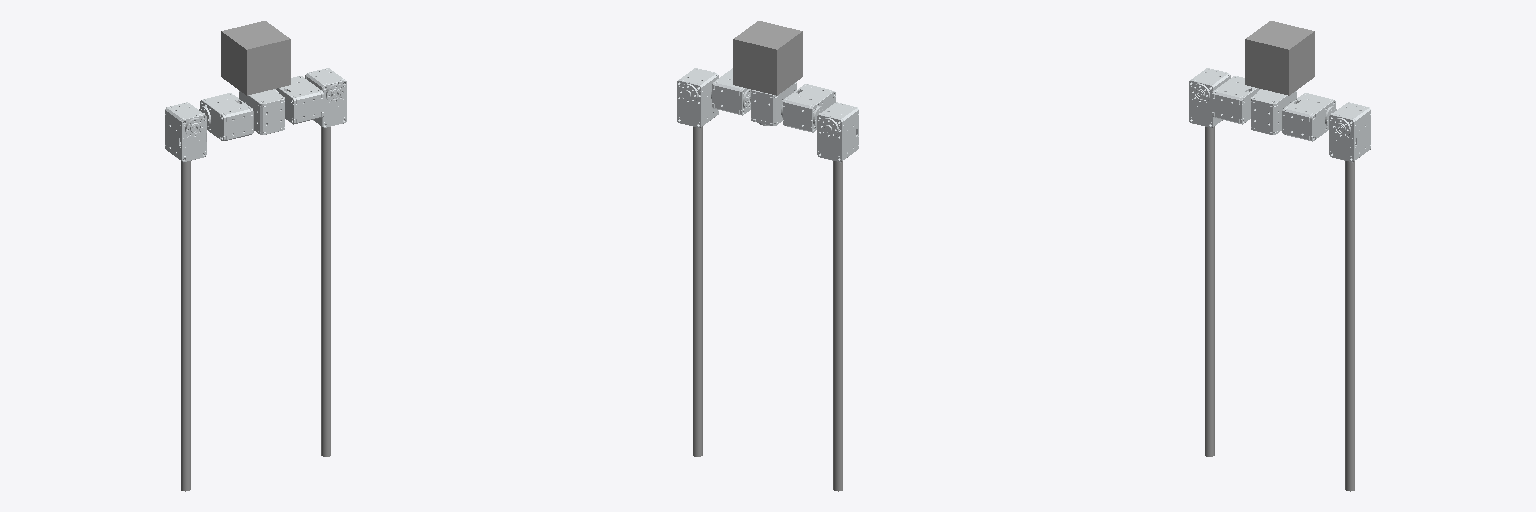
URDF robot description (chopstick_bot):
<?xml version='1.0' encoding='utf-8'?>
<robot name="chopstick_bot">
  <link name="world" />
  <joint name="world_to_base" type="fixed">
    <origin xyz="0.000000 0.000000 0.470000" rpy="0.000000 0.000000 0.000000" />
    <parent link="world" />
    <child link="base_motor_link" />
    </joint>
  <link name="base_motor_link">
    <visual>
      <origin xyz="0.000000 0.000000 0.000000" rpy="0.000000 0.000000 0.000000" />
      <geometry>
        <mesh filename="meshes/XL-430_new_coordinate_on_axis.STL" scale="0.001000 0.001000 0.001000" />
        </geometry>
      <material name="motor_mat">
        <color rgba="0.89804 0.91765 0.92941 1.0" />
        </material>
      </visual>
    <collision>
      <origin xyz="0.000000 -0.012000 0.000000" rpy="0.000000 0.000000 0.000000" />
      <geometry>
        <box size="0.028500 0.046500 0.034000" />
        </geometry>
      </collision>
    <inertial>
      <origin xyz="0.000000 -0.012000 0.000000" rpy="0.000000 0.000000 0.000000" />
      <mass value="0.065000" />
      <inertia ixx="0.000017973854" ixy="0" ixz="0" iyy="0.000010661354" iyz="0" izz="0.000016111875" />
      </inertial>
    </link>
  <link name="l_hip_pitch">
    <visual>
      <origin xyz="0.000000 0.000000 0.000000" rpy="0.000000 0.000000 0.000000" />
      <geometry>
        <mesh filename="meshes/XL-430_new_coordinate_on_axis.STL" scale="0.001000 0.001000 0.001000" />
        </geometry>
      <material name="motor_mat">
        <color rgba="0.89804 0.91765 0.92941 1.0" />
        </material>
      </visual>
    <collision>
      <origin xyz="0.000000 -0.012000 0.000000" rpy="0.000000 0.000000 0.000000" />
      <geometry>
        <box size="0.028500 0.046500 0.034000" />
        </geometry>
      </collision>
    <inertial>
      <origin xyz="0.000000 -0.012000 0.000000" rpy="0.000000 0.000000 0.000000" />
      <mass value="0.065000" />
      <inertia ixx="0.000017973854" ixy="0" ixz="0" iyy="0.000010661354" iyz="0" izz="0.000016111875" />
      </inertial>
    </link>
  <link name="l_hip_pitch_out">
    <inertial>
      <origin xyz="0.000000 0.000000 0.000000" rpy="0.000000 0.000000 0.000000" />
      <mass value="0.001000" />
      <inertia ixx="0.000000016667" ixy="0" ixz="0" iyy="0.000000016667" iyz="0" izz="0.000000016667" />
      </inertial>
    </link>
  <joint name="l_hip_pitch_mount_fixed" type="fixed">
    <origin xyz="-0.040000 0.000000 0.000000" rpy="0.000000 -1.570796 0.000000" />
    <parent link="base_motor_link" />
    <child link="l_hip_pitch" />
    </joint>
  <joint name="l_hip_pitch_joint" type="revolute">
    <origin xyz="0.000000 0.000000 0.000000" rpy="0.000000 0.000000 0.000000" />
    <parent link="l_hip_pitch" />
    <child link="l_hip_pitch_out" />
    <axis xyz="0.000000 0.000000 1.000000" />
    <limit lower="-3.14159" upper="3.14159" effort="5.0" velocity="8.0" />
    </joint>
  <link name="l_hip_roll">
    <visual>
      <origin xyz="0.000000 0.000000 0.000000" rpy="0.000000 0.000000 0.000000" />
      <geometry>
        <mesh filename="meshes/XL-430_new_coordinate_on_axis.STL" scale="0.001000 0.001000 0.001000" />
        </geometry>
      <material name="motor_mat">
        <color rgba="0.89804 0.91765 0.92941 1.0" />
        </material>
      </visual>
    <collision>
      <origin xyz="0.000000 -0.012000 0.000000" rpy="0.000000 0.000000 0.000000" />
      <geometry>
        <box size="0.028500 0.046500 0.034000" />
        </geometry>
      </collision>
    <inertial>
      <origin xyz="0.000000 -0.012000 0.000000" rpy="0.000000 0.000000 0.000000" />
      <mass value="0.065000" />
      <inertia ixx="0.000017973854" ixy="0" ixz="0" iyy="0.000010661354" iyz="0" izz="0.000016111875" />
      </inertial>
    </link>
  <link name="l_hip_roll_out">
    <inertial>
      <origin xyz="0.000000 0.000000 0.000000" rpy="0.000000 0.000000 0.000000" />
      <mass value="0.001000" />
      <inertia ixx="0.000000016667" ixy="0" ixz="0" iyy="0.000000016667" iyz="0" izz="0.000000016667" />
      </inertial>
    </link>
  <joint name="l_hip_roll_mount_fixed" type="fixed">
    <origin xyz="0.000000 0.000000 0.040000" rpy="0.000000 -1.570796 -1.570796" />
    <parent link="l_hip_pitch_out" />
    <child link="l_hip_roll" />
    </joint>
  <joint name="l_hip_roll_joint" type="revolute">
    <origin xyz="0.000000 0.000000 0.000000" rpy="0.000000 0.000000 0.000000" />
    <parent link="l_hip_roll" />
    <child link="l_hip_roll_out" />
    <axis xyz="0.000000 0.000000 1.000000" />
    <limit lower="-3.14159" upper="3.14159" effort="5.0" velocity="8.0" />
    </joint>
  <link name="l_end_effector">
    <visual>
      <origin xyz="0.000000 0.000000 0.000000" rpy="1.570796 0.000000 0.000000" />
      <geometry>
        <cylinder radius="0.005000" length="0.400000" />
        </geometry>
      <material name="cylinder_mat">
        <color rgba="0.7 0.7 0.7 1.0" />
        </material>
      </visual>
    <collision>
      <origin xyz="0.000000 -0.200000 0.000000" rpy="0.000000 0.000000 0.000000" />
      <geometry>
        <box size="0.020000 0.020000 0.020000" />
        </geometry>
      </collision>
    <inertial>
      <origin xyz="0.000000 0.000000 0.000000" rpy="0.000000 0.000000 0.000000" />
      <mass value="0.015708" />
      <inertia ixx="0.000209537685" ixy="0" ixz="0" iyy="0.000209537685" iyz="0" izz="0.000000196350" />
      </inertial>
    </link>
  <joint name="l_end_effector_fixed" type="fixed">
    <origin xyz="0.000000 -0.200000 0.000000" rpy="0.000000 0.000000 0.000000" />
    <parent link="l_hip_roll_out" />
    <child link="l_end_effector" />
    </joint>
  <link name="r_hip_pitch">
    <visual>
      <origin xyz="0.000000 0.000000 0.000000" rpy="0.000000 0.000000 0.000000" />
      <geometry>
        <mesh filename="meshes/XL-430_new_coordinate_on_axis.STL" scale="0.001000 0.001000 0.001000" />
        </geometry>
      <material name="motor_mat">
        <color rgba="0.89804 0.91765 0.92941 1.0" />
        </material>
      </visual>
    <collision>
      <origin xyz="0.000000 -0.012000 0.000000" rpy="0.000000 0.000000 0.000000" />
      <geometry>
        <box size="0.028500 0.046500 0.034000" />
        </geometry>
      </collision>
    <inertial>
      <origin xyz="0.000000 -0.012000 0.000000" rpy="0.000000 0.000000 0.000000" />
      <mass value="0.065000" />
      <inertia ixx="0.000017973854" ixy="0" ixz="0" iyy="0.000010661354" iyz="0" izz="0.000016111875" />
      </inertial>
    </link>
  <link name="r_hip_pitch_out">
    <inertial>
      <origin xyz="0.000000 0.000000 0.000000" rpy="0.000000 0.000000 0.000000" />
      <mass value="0.001000" />
      <inertia ixx="0.000000016667" ixy="0" ixz="0" iyy="0.000000016667" iyz="0" izz="0.000000016667" />
      </inertial>
    </link>
  <joint name="r_hip_pitch_mount_fixed" type="fixed">
    <origin xyz="0.040000 0.000000 0.000000" rpy="0.000000 1.570796 -0.000000" />
    <parent link="base_motor_link" />
    <child link="r_hip_pitch" />
    </joint>
  <joint name="r_hip_pitch_joint" type="revolute">
    <origin xyz="0.000000 0.000000 0.000000" rpy="0.000000 0.000000 0.000000" />
    <parent link="r_hip_pitch" />
    <child link="r_hip_pitch_out" />
    <axis xyz="0.000000 0.000000 1.000000" />
    <limit lower="-3.14159" upper="3.14159" effort="5.0" velocity="8.0" />
    </joint>
  <link name="r_hip_roll">
    <visual>
      <origin xyz="0.000000 0.000000 0.000000" rpy="0.000000 0.000000 0.000000" />
      <geometry>
        <mesh filename="meshes/XL-430_new_coordinate_on_axis.STL" scale="0.001000 0.001000 0.001000" />
        </geometry>
      <material name="motor_mat">
        <color rgba="0.89804 0.91765 0.92941 1.0" />
        </material>
      </visual>
    <collision>
      <origin xyz="0.000000 -0.012000 0.000000" rpy="0.000000 0.000000 0.000000" />
      <geometry>
        <box size="0.028500 0.046500 0.034000" />
        </geometry>
      </collision>
    <inertial>
      <origin xyz="0.000000 -0.012000 0.000000" rpy="0.000000 0.000000 0.000000" />
      <mass value="0.065000" />
      <inertia ixx="0.000017973854" ixy="0" ixz="0" iyy="0.000010661354" iyz="0" izz="0.000016111875" />
      </inertial>
    </link>
  <link name="r_hip_roll_out">
    <inertial>
      <origin xyz="0.000000 0.000000 0.000000" rpy="0.000000 0.000000 0.000000" />
      <mass value="0.001000" />
      <inertia ixx="0.000000016667" ixy="0" ixz="0" iyy="0.000000016667" iyz="0" izz="0.000000016667" />
      </inertial>
    </link>
  <joint name="r_hip_roll_mount_fixed" type="fixed">
    <origin xyz="-0.000000 0.000000 0.040000" rpy="0.000000 1.570796 1.570796" />
    <parent link="r_hip_pitch_out" />
    <child link="r_hip_roll" />
    </joint>
  <joint name="r_hip_roll_joint" type="revolute">
    <origin xyz="0.000000 0.000000 0.000000" rpy="0.000000 0.000000 0.000000" />
    <parent link="r_hip_roll" />
    <child link="r_hip_roll_out" />
    <axis xyz="0.000000 0.000000 1.000000" />
    <limit lower="-3.14159" upper="3.14159" effort="5.0" velocity="8.0" />
    </joint>
  <link name="r_end_effector">
    <visual>
      <origin xyz="0.000000 0.000000 0.000000" rpy="1.570796 0.000000 0.000000" />
      <geometry>
        <cylinder radius="0.005000" length="0.400000" />
        </geometry>
      <material name="cylinder_mat">
        <color rgba="0.7 0.7 0.7 1.0" />
        </material>
      </visual>
    <collision>
      <origin xyz="0.000000 -0.200000 0.000000" rpy="0.000000 0.000000 0.000000" />
      <geometry>
        <box size="0.020000 0.020000 0.020000" />
        </geometry>
      </collision>
    <inertial>
      <origin xyz="0.000000 0.000000 0.000000" rpy="0.000000 0.000000 0.000000" />
      <mass value="0.015708" />
      <inertia ixx="0.000209537685" ixy="0" ixz="0" iyy="0.000209537685" iyz="0" izz="0.000000196350" />
      </inertial>
    </link>
  <joint name="r_end_effector_fixed" type="fixed">
    <origin xyz="-0.000000 -0.200000 0.000000" rpy="0.000000 -0.000000 0.000000" />
    <parent link="r_hip_roll_out" />
    <child link="r_end_effector" />
    </joint>
  <link name="trunk_link">
    <visual>
      <origin xyz="0.000000 0.000000 0.000000" rpy="0.000000 0.000000 0.000000" />
      <geometry>
        <box size="0.050000 0.050000 0.050000" />
        </geometry>
      <material name="box_mat">
        <color rgba="0.7 0.7 0.7 1.0" />
        </material>
      </visual>
    <collision>
      <origin xyz="0.000000 0.000000 0.000000" rpy="0.000000 0.000000 0.000000" />
      <geometry>
        <box size="0.050000 0.050000 0.050000" />
        </geometry>
      </collision>
    <inertial>
      <origin xyz="0.000000 0.000000 0.000000" rpy="0.000000 0.000000 0.000000" />
      <mass value="0.200000" />
      <inertia ixx="0.000083333333" ixy="0" ixz="0" iyy="0.000083333333" iyz="0" izz="0.000083333333" />
      </inertial>
    </link>
  <joint name="base_to_trunk" type="revolute">
    <origin xyz="0.000000 0.000000 0.050000" rpy="0.000000 0.000000 0.000000" />
    <parent link="base_motor_link" />
    <child link="trunk_link" />
    <axis xyz="0.000000 0.000000 1.000000" />
    <limit lower="-3.14159" upper="3.14159" effort="5.0" velocity="8.0" />
    </joint>
  </robot>

--- Facts derived from the render (not from the file) ---
Views: 3 orthographic renders of the robot side by side, from view 1: azimuth 30°, elevation 25°; view 2: azimuth 150°, elevation 25°; view 3: azimuth 330°, elevation 25°.
Robot: chopstick_bot — 13 links, 12 joints (5 revolute, 7 fixed); root link world; default pose: all joints at 0.
Links seen in each view (by area): view 1: trunk_link, l_end_effector, r_end_effector, l_hip_roll, l_hip_pitch, r_hip_pitch, r_hip_roll, base_motor_link; view 2: trunk_link, l_end_effector, r_end_effector, l_hip_roll, r_hip_roll, l_hip_pitch, r_hip_pitch, base_motor_link; view 3: trunk_link, l_end_effector, r_end_effector, r_hip_roll, r_hip_pitch, l_hip_pitch, l_hip_roll, base_motor_link.
Link boxes in pixels (x1,y1,x2,y2): trunk_link: (221,21,290,95); l_end_effector: (181,161,190,491); r_end_effector: (321,126,330,456); l_hip_roll: (165,102,206,162); l_hip_pitch: (199,93,253,140); r_hip_pitch: (274,76,323,124); r_hip_roll: (305,68,346,127); base_motor_link: (239,89,284,134); trunk_link: (733,21,802,95); l_end_effector: (833,161,842,491); r_end_effector: (693,126,702,456); l_hip_roll: (817,102,858,162); r_hip_roll: (677,68,718,127); l_hip_pitch: (781,84,835,132); r_hip_pitch: (711,68,750,115); base_motor_link: (751,82,796,125); trunk_link: (1245,21,1314,95); l_end_effector: (1205,126,1214,456); r_end_effector: (1345,161,1354,491); r_hip_roll: (1329,102,1370,162); r_hip_pitch: (1282,93,1336,141); l_hip_pitch: (1212,76,1261,124); l_hip_roll: (1189,68,1230,127); base_motor_link: (1251,89,1296,134).
Bounding box of the posed robot: 0.1885 × 0.0602 × 0.475 m (x, y, z).
5 mesh visuals loaded from 1 distinct referenced files (1 binary STL).
